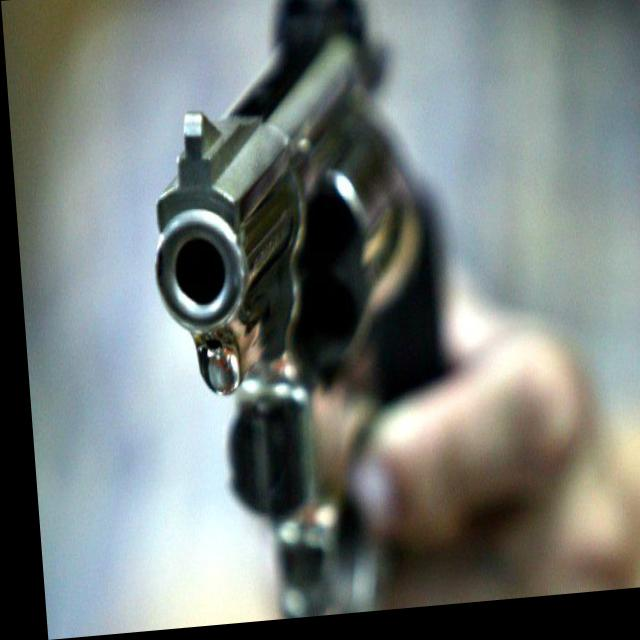handgun: (133, 0, 452, 619)
